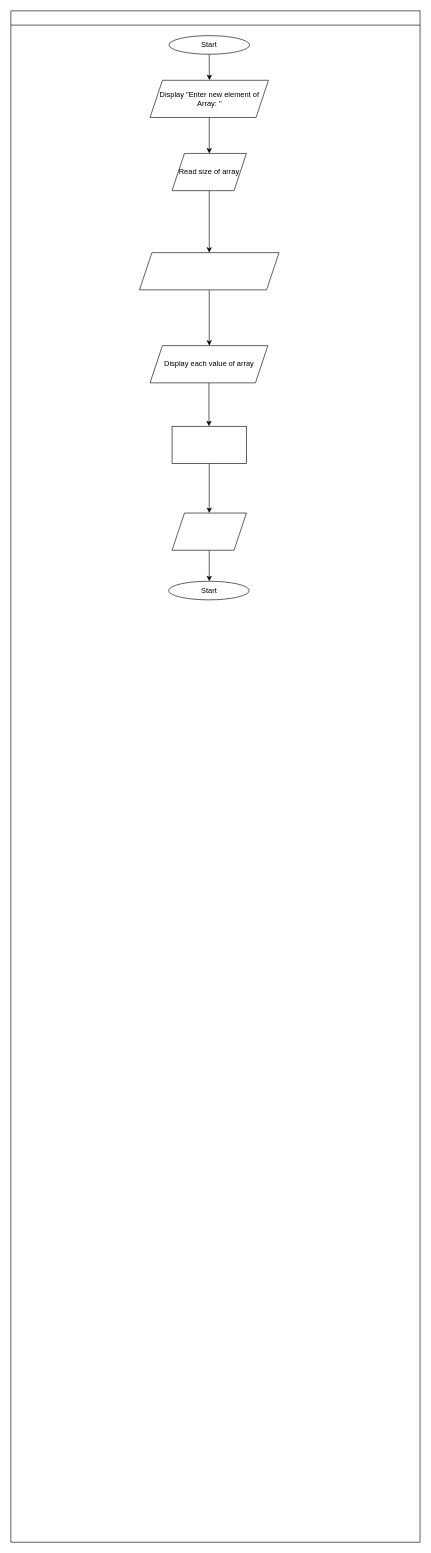
Image size: 431x1553. Some labels were removed from this diagram. Here are the shapes that lost their labels. From the top down, the centre of each, then its label:
At (x=209, y=271): "Read input from user store first array to last".
At (x=208, y=444): "Sort array using Selection sort".
At (x=208, y=531): "Print large 3rd element".
